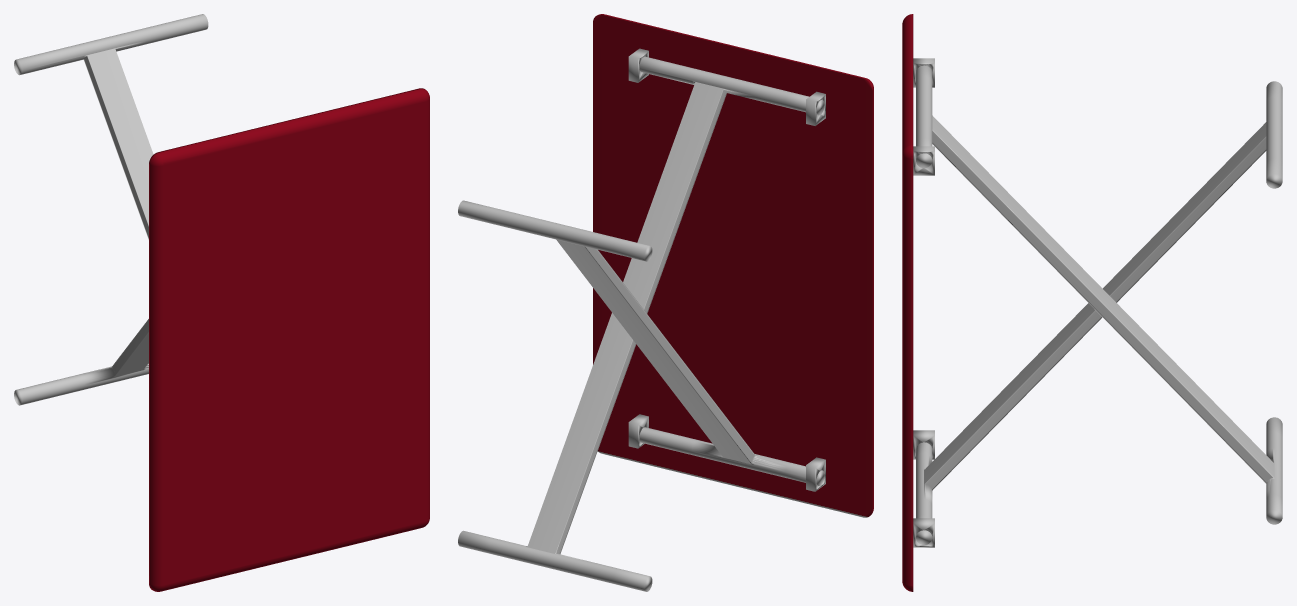
The model's file is workbench.dae.
The picture shows the model from 3 angles, left to right: view 1: azimuth 30°, elevation 25°; view 2: azimuth 150°, elevation 25°; view 3: azimuth 270°, elevation 25°; orthographic projection.
Visible parts, largest first — view 1: transform1; view 2: transform1; view 3: transform1.
Boxes of the visible parts, x1,y1,x2,y2 form: transform1: [14, 14, 429, 591]; transform1: [458, 14, 873, 591]; transform1: [902, 14, 1282, 591].
Bounding box in the file's own units: 0.6 × 0.9 × 0.695.
Materials: 1 (1 with a texture image).
